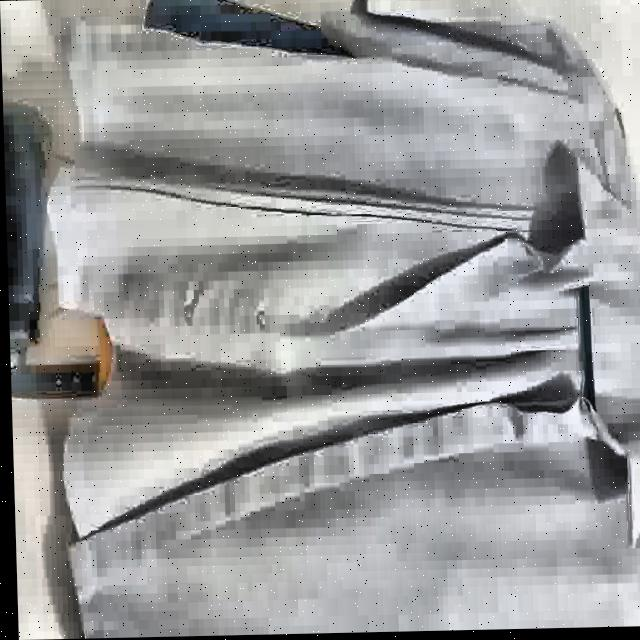clothes: (43, 0, 640, 630)
